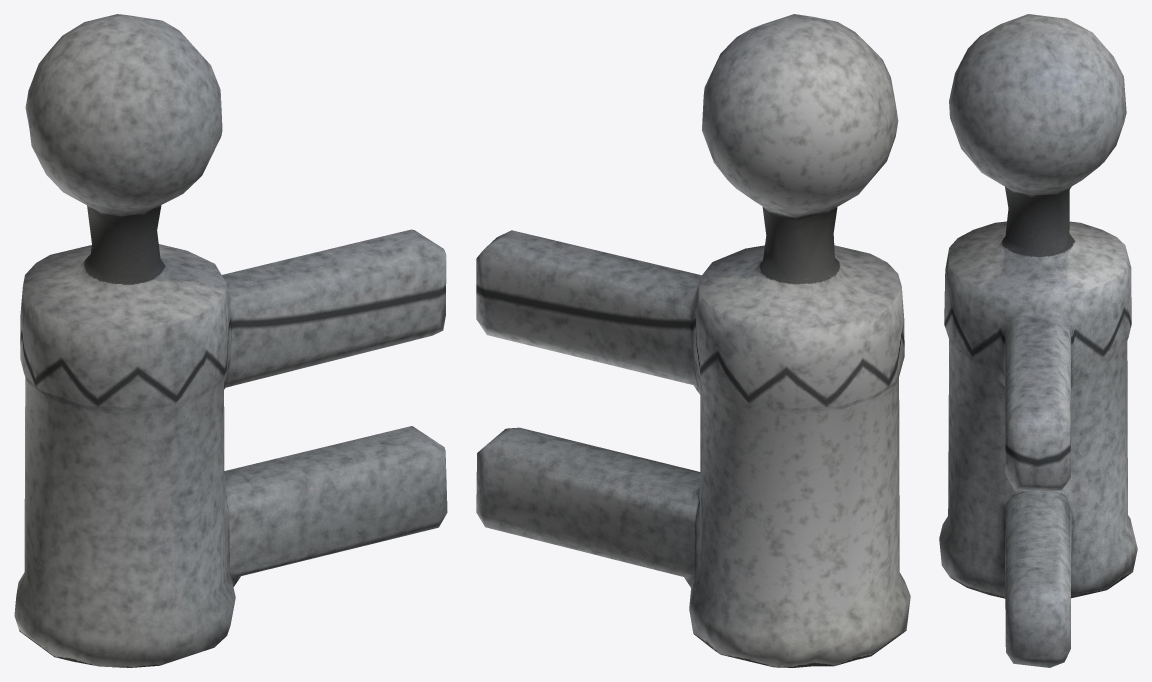
File: balustrade_end_w.glb
3 views of the same model, side by side, from view 1: azimuth 30°, elevation 25°; view 2: azimuth 150°, elevation 25°; view 3: azimuth 270°, elevation 25° (orthographic). The views are drawn at different scales.
Visible parts, largest first — view 1: balustrade_end_w_lod0; view 2: balustrade_end_w_lod0; view 3: balustrade_end_w_lod0.
Boxes of the visible parts, x1,y1,x2,y2 form: balustrade_end_w_lod0: [14, 14, 447, 667]; balustrade_end_w_lod0: [476, 14, 910, 667]; balustrade_end_w_lod0: [939, 14, 1137, 667].
Bounding box in the file's own units: 0.6391 × 0.893 × 0.2994.
1 material, 1 textured.
